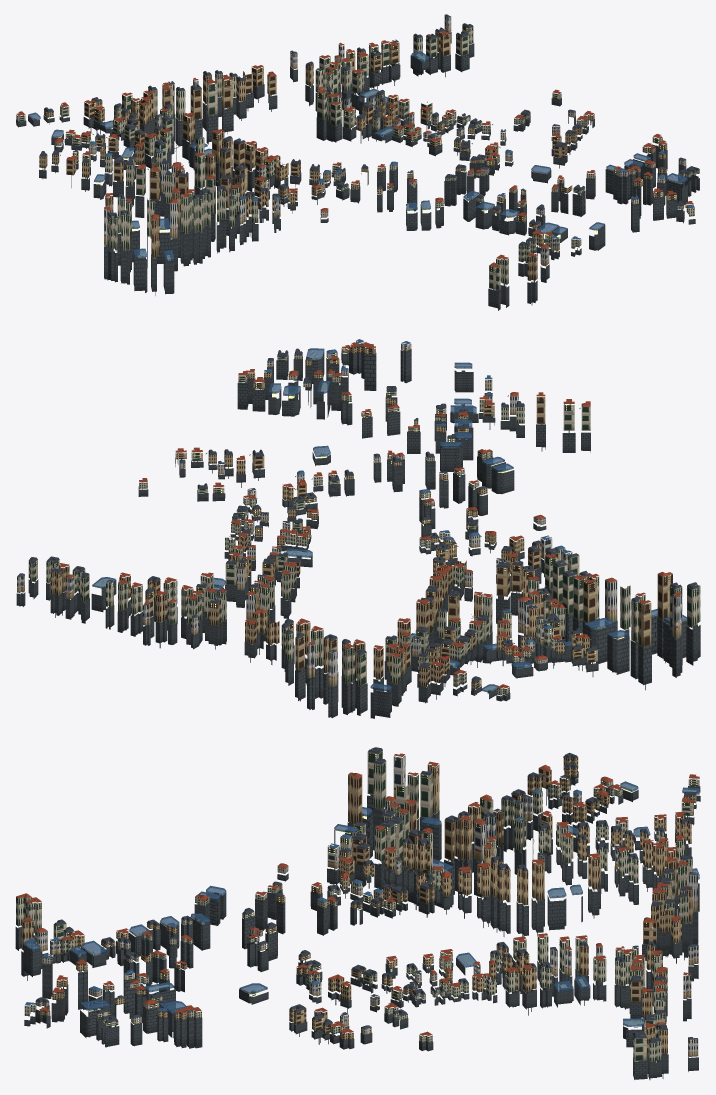
The model's file is osm_buildings_T_E00_S01_Q1.glb.
3 views of the same model, one above another, from view 1: azimuth 30°, elevation 25°; view 2: azimuth 150°, elevation 25°; view 3: azimuth 270°, elevation 25° (orthographic). The views are drawn at different scales.
Visible parts, largest first — view 1: OSM_PBR_T_E00_S01_Q1_foundation, OSM_PBR_T_E00_S01_Q1_wall_cream_stucco, OSM_PBR_T_E00_S01_Q1_wall_french_ochre, OSM_PBR_T_E00_S01_Q1_roof_terracotta, OSM_PBR_T_E00_S01_Q1_roof_mansard_slate, OSM_PBR_T_E00_S01_Q1_greenhouse_blend, OSM_PBR_T_E00_S01_Q1_wall_pastel_sand, OSM_PBR_T_E00_S01_Q1_wall_warm_white, OSM_PBR_T_E00_S01_Q1_roof_mansard_deck, OSM_PBR_T_E00_S01_Q1_roof_mint_metal, OSM_PBR_T_E00_S01_Q1_balcony_railing, OSM_PBR_T_E00_S01_Q1_trim_cornice (+2 smaller); view 2: OSM_PBR_T_E00_S01_Q1_foundation, OSM_PBR_T_E00_S01_Q1_wall_cream_stucco, OSM_PBR_T_E00_S01_Q1_wall_french_ochre, OSM_PBR_T_E00_S01_Q1_roof_terracotta, OSM_PBR_T_E00_S01_Q1_roof_mansard_slate, OSM_PBR_T_E00_S01_Q1_greenhouse_blend, OSM_PBR_T_E00_S01_Q1_wall_warm_white, OSM_PBR_T_E00_S01_Q1_wall_pastel_sand, OSM_PBR_T_E00_S01_Q1_roof_mansard_deck, OSM_PBR_T_E00_S01_Q1_roof_mint_metal, OSM_PBR_T_E00_S01_Q1_trim_cornice, OSM_PBR_T_E00_S01_Q1_balcony_railing (+1 smaller); view 3: OSM_PBR_T_E00_S01_Q1_foundation, OSM_PBR_T_E00_S01_Q1_wall_french_ochre, OSM_PBR_T_E00_S01_Q1_wall_cream_stucco, OSM_PBR_T_E00_S01_Q1_roof_terracotta, OSM_PBR_T_E00_S01_Q1_roof_mansard_slate, OSM_PBR_T_E00_S01_Q1_greenhouse_blend, OSM_PBR_T_E00_S01_Q1_wall_pastel_sand, OSM_PBR_T_E00_S01_Q1_wall_warm_white, OSM_PBR_T_E00_S01_Q1_roof_mansard_deck, OSM_PBR_T_E00_S01_Q1_roof_mint_metal, OSM_PBR_T_E00_S01_Q1_trim_cornice, OSM_PBR_T_E00_S01_Q1_roof_alpine_blue (+1 smaller).
Part boxes in pixels (x1,y1,x2,y2): OSM_PBR_T_E00_S01_Q1_foundation: (16,32,699,310); OSM_PBR_T_E00_S01_Q1_wall_cream_stucco: (16,25,699,290); OSM_PBR_T_E00_S01_Q1_wall_french_ochre: (39,30,693,280); OSM_PBR_T_E00_S01_Q1_roof_terracotta: (17,31,693,267); OSM_PBR_T_E00_S01_Q1_roof_mansard_slate: (39,14,699,245); OSM_PBR_T_E00_S01_Q1_greenhouse_blend: (28,51,687,260); OSM_PBR_T_E00_S01_Q1_wall_pastel_sand: (155,15,686,266); OSM_PBR_T_E00_S01_Q1_wall_warm_white: (54,44,665,246); OSM_PBR_T_E00_S01_Q1_roof_mansard_deck: (30,23,698,260); OSM_PBR_T_E00_S01_Q1_roof_mint_metal: (17,30,699,274); OSM_PBR_T_E00_S01_Q1_balcony_railing: (44,29,689,273); OSM_PBR_T_E00_S01_Q1_trim_cornice: (19,15,699,262); OSM_PBR_T_E00_S01_Q1_foundation: (16,349,700,718); OSM_PBR_T_E00_S01_Q1_wall_cream_stucco: (28,341,700,694); OSM_PBR_T_E00_S01_Q1_wall_french_ochre: (50,344,672,689); OSM_PBR_T_E00_S01_Q1_roof_terracotta: (52,342,681,688); OSM_PBR_T_E00_S01_Q1_roof_mansard_slate: (17,346,699,682); OSM_PBR_T_E00_S01_Q1_greenhouse_blend: (92,348,686,692); OSM_PBR_T_E00_S01_Q1_wall_warm_white: (66,352,681,678); OSM_PBR_T_E00_S01_Q1_wall_pastel_sand: (17,343,572,687); OSM_PBR_T_E00_S01_Q1_roof_mansard_deck: (30,343,696,692); OSM_PBR_T_E00_S01_Q1_roof_mint_metal: (29,351,699,695); OSM_PBR_T_E00_S01_Q1_trim_cornice: (18,345,694,693); OSM_PBR_T_E00_S01_Q1_balcony_railing: (35,346,674,688); OSM_PBR_T_E00_S01_Q1_foundation: (15,771,700,1079); OSM_PBR_T_E00_S01_Q1_wall_french_ochre: (21,756,696,1054); OSM_PBR_T_E00_S01_Q1_wall_cream_stucco: (16,749,699,1062); OSM_PBR_T_E00_S01_Q1_roof_terracotta: (16,753,699,1035); OSM_PBR_T_E00_S01_Q1_roof_mansard_slate: (36,747,698,1043); OSM_PBR_T_E00_S01_Q1_greenhouse_blend: (24,781,699,1027); OSM_PBR_T_E00_S01_Q1_wall_pastel_sand: (35,822,698,1057); OSM_PBR_T_E00_S01_Q1_wall_warm_white: (88,755,692,1037); OSM_PBR_T_E00_S01_Q1_roof_mansard_deck: (24,747,699,1040); OSM_PBR_T_E00_S01_Q1_roof_mint_metal: (17,756,695,1047); OSM_PBR_T_E00_S01_Q1_trim_cornice: (16,749,699,1045); OSM_PBR_T_E00_S01_Q1_roof_alpine_blue: (24,789,581,1011).
Size of the model in its own units: 999 by 214 by 1008.
18 materials, 16 textured.
